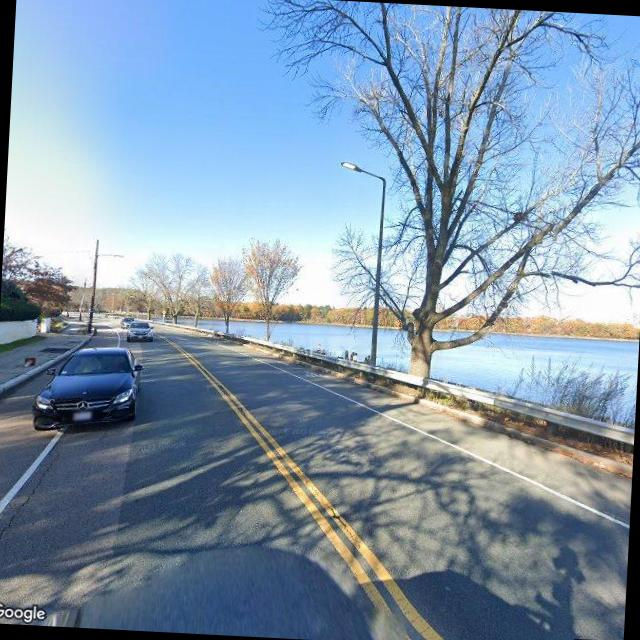pothole: (0, 447, 59, 595), (310, 491, 359, 542)
